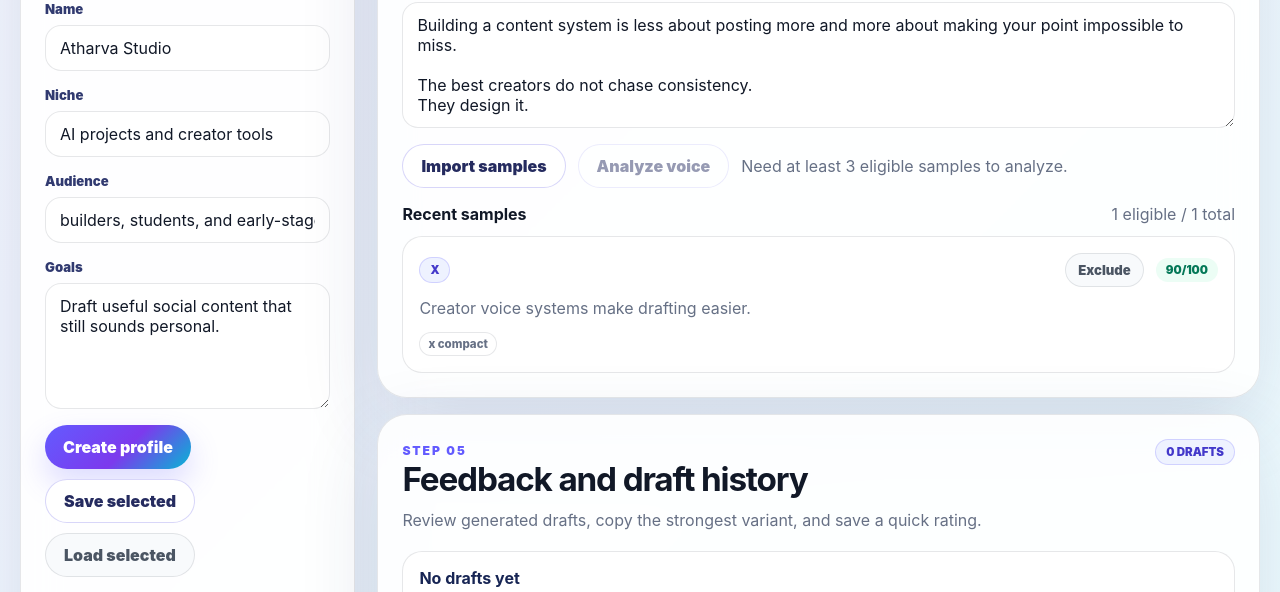
Test case: CreatorStudioShell › updates sample inclusion through the backend
(page scrolled)
Click the button "Exclude": coordinates (1104, 270) [1065, 253, 1144, 287]
(page scrolled)
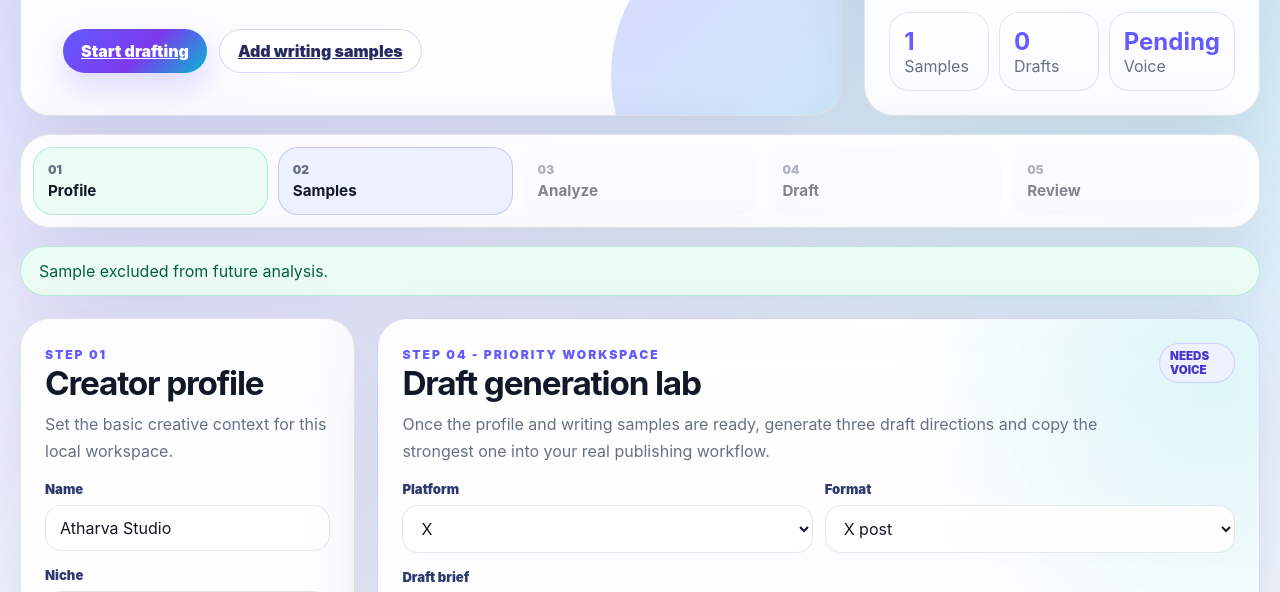
Now the text "Sample excluded from future analysis." is shown, box [20, 246, 1260, 296]
